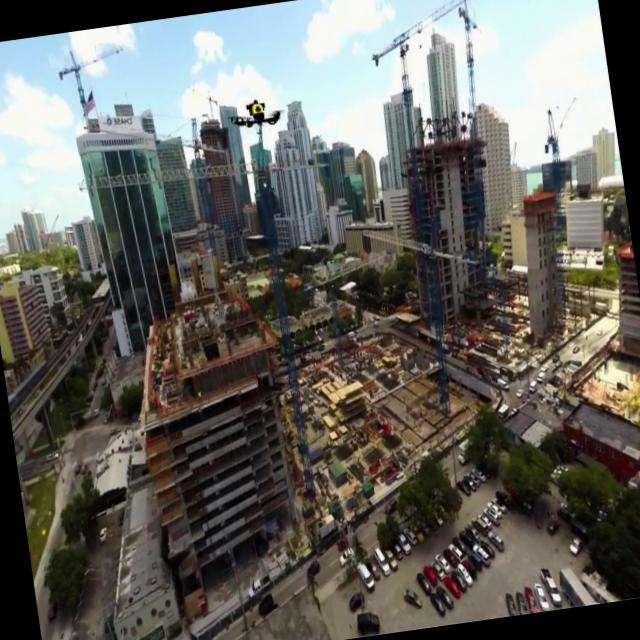drone: (225, 94, 290, 144)
